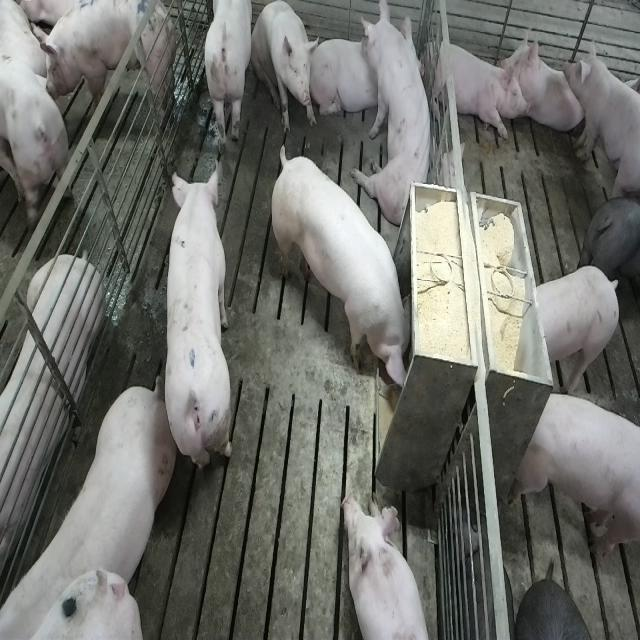Feeding: (274, 145, 421, 394)
Sitting: (356, 4, 440, 233), (251, 1, 318, 136)
Standing: (162, 165, 233, 479), (515, 387, 638, 566), (47, 0, 180, 130), (0, 57, 71, 228), (534, 265, 622, 397), (571, 39, 640, 206), (202, 2, 255, 153), (583, 192, 640, 310)
Sternal_lying: (0, 249, 102, 577), (344, 490, 434, 640), (424, 30, 524, 141), (503, 27, 585, 147), (311, 32, 381, 124)
